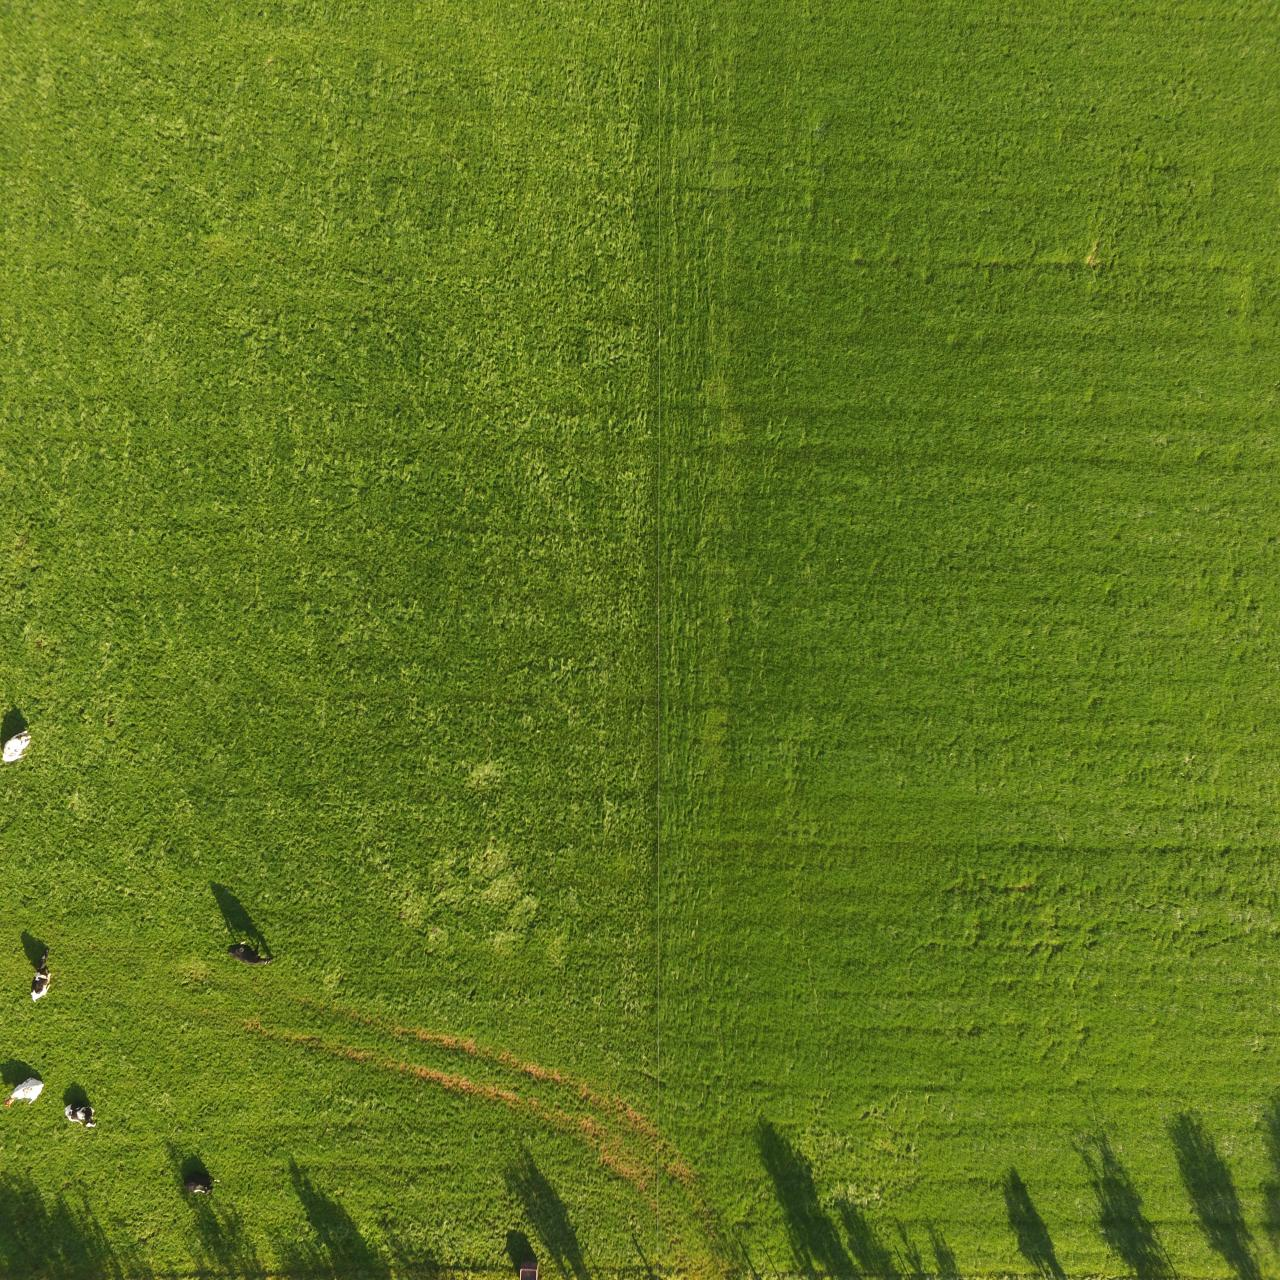cow: (4, 1068, 48, 1113), (29, 944, 54, 1018), (0, 725, 31, 774), (226, 941, 274, 969), (64, 1096, 99, 1133), (183, 1169, 224, 1196)
